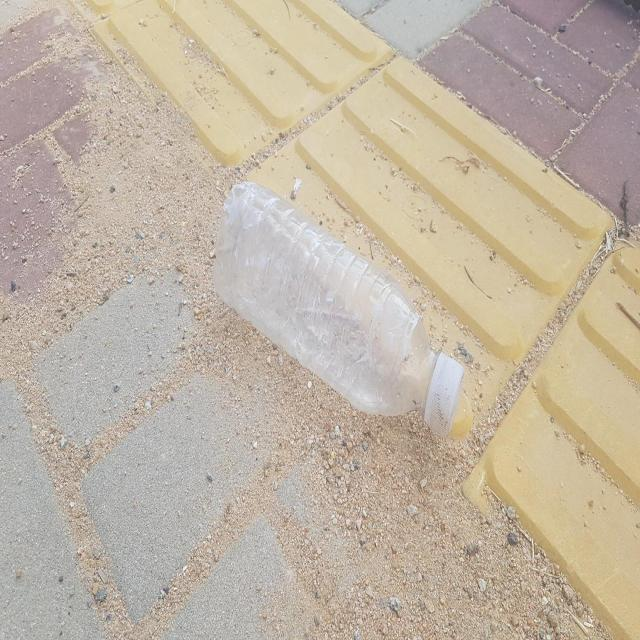plastic: (213, 181, 465, 436)
